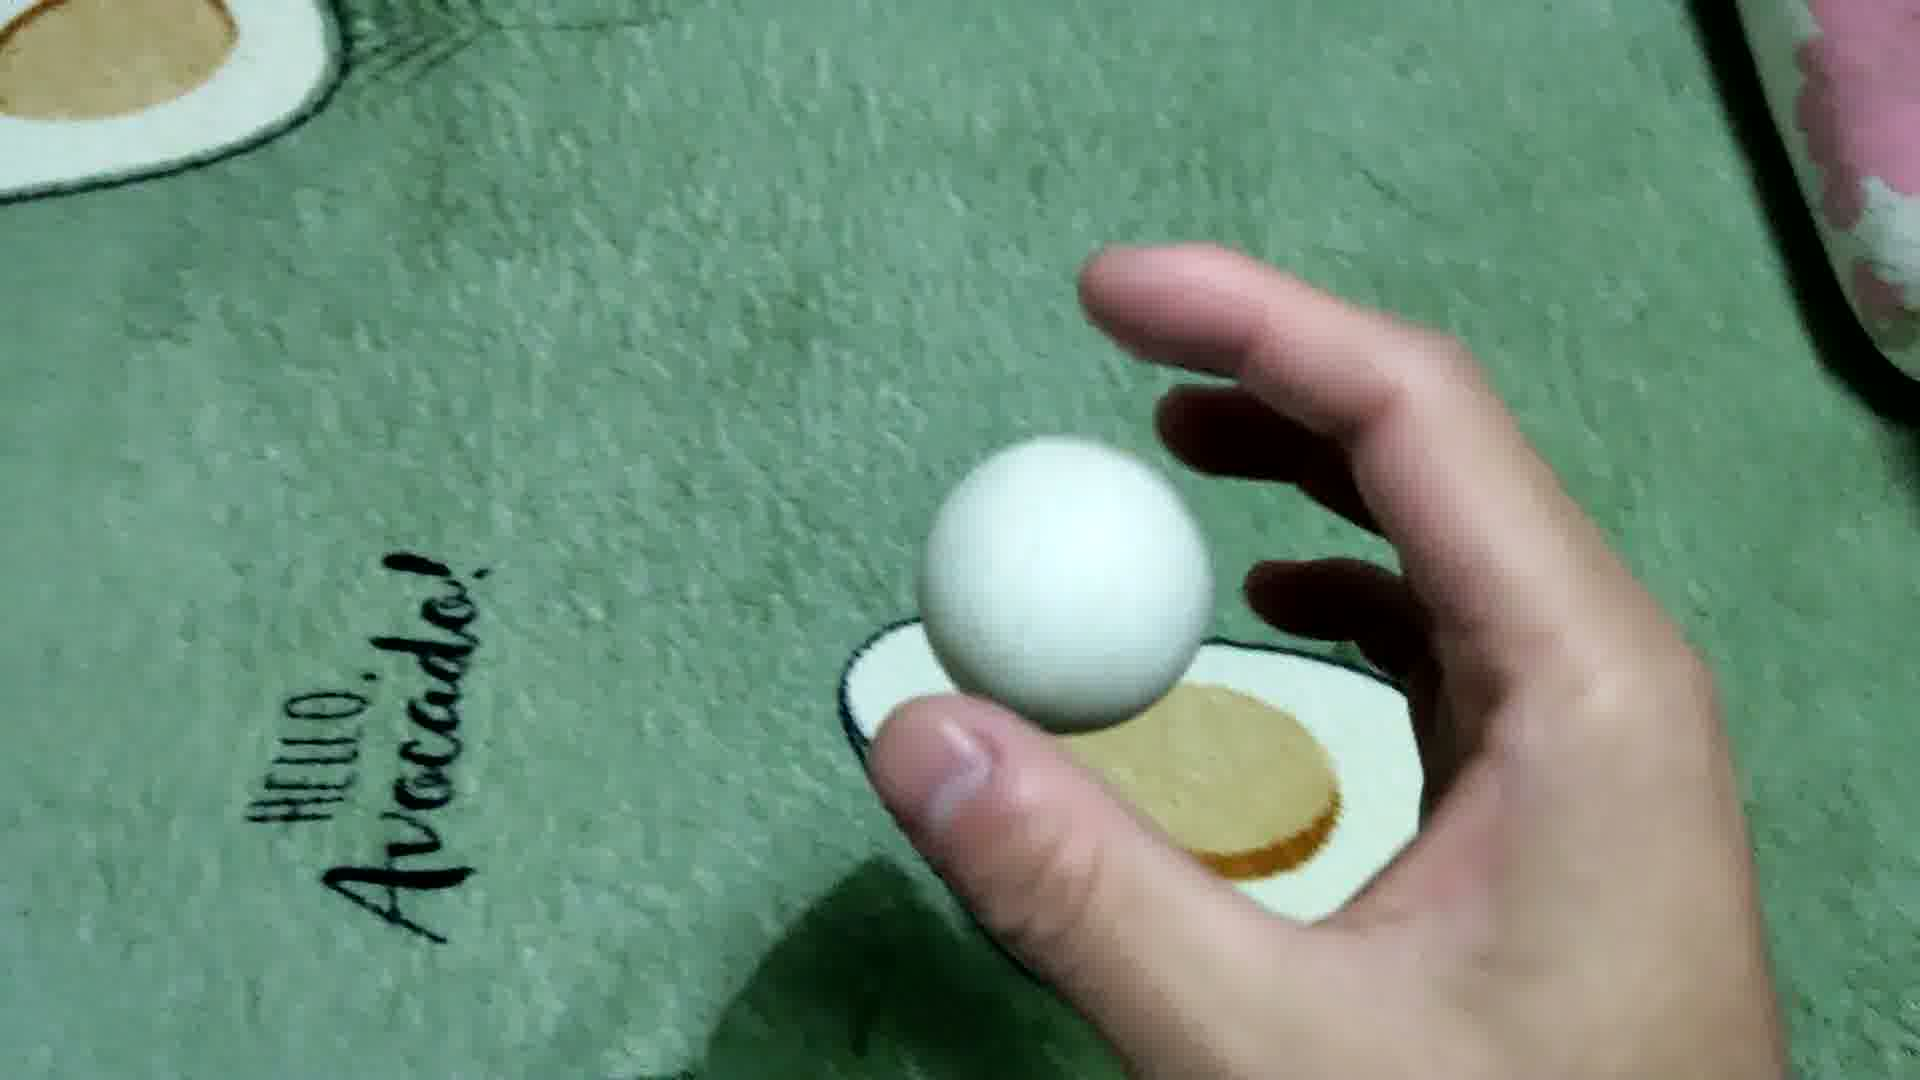Ball: (920, 433, 1220, 732)
